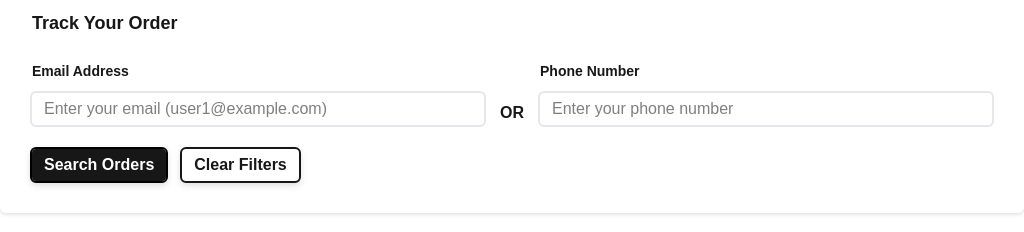
Clear filters button clears the fields
Step 1. Type "fake@email.com" into the field labelled "Email Address" → (258, 109), box [32, 93, 484, 125]
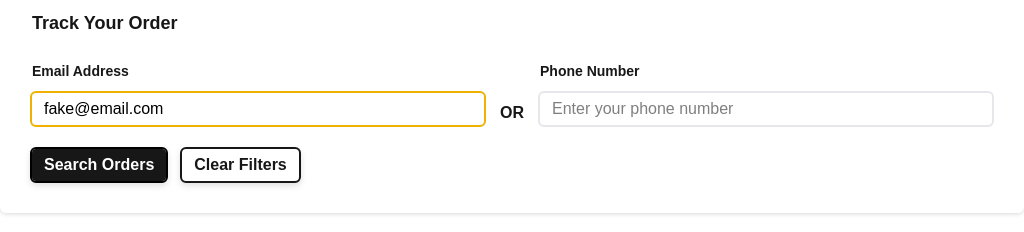
Step 2. Type "333333333" into the field labelled "Phone Number" → (766, 109), box [540, 93, 992, 125]
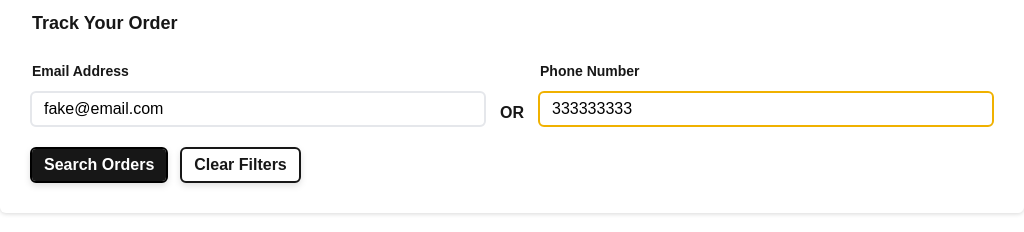
Step 3. Click the button "Search Orders" → (99, 165), box [32, 149, 166, 181]
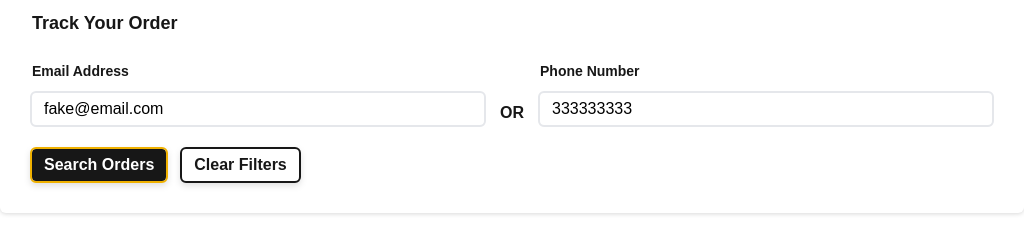
Step 4. Click the button "Clear Filters" → (241, 165), box [182, 149, 299, 181]
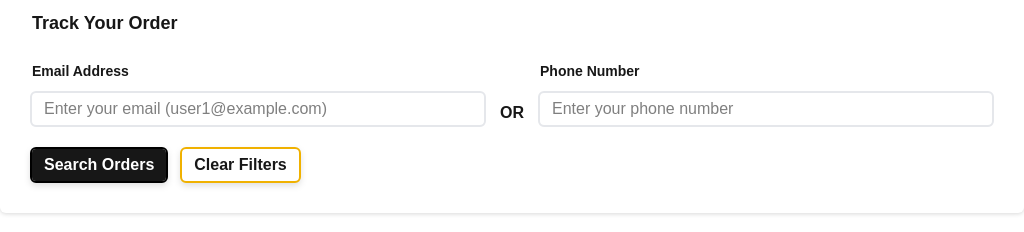
Expected: the field labelled "Email Address" is empty, [32, 93, 484, 125]
Expected: the field labelled "Phone Number" is empty, [540, 93, 992, 125]
